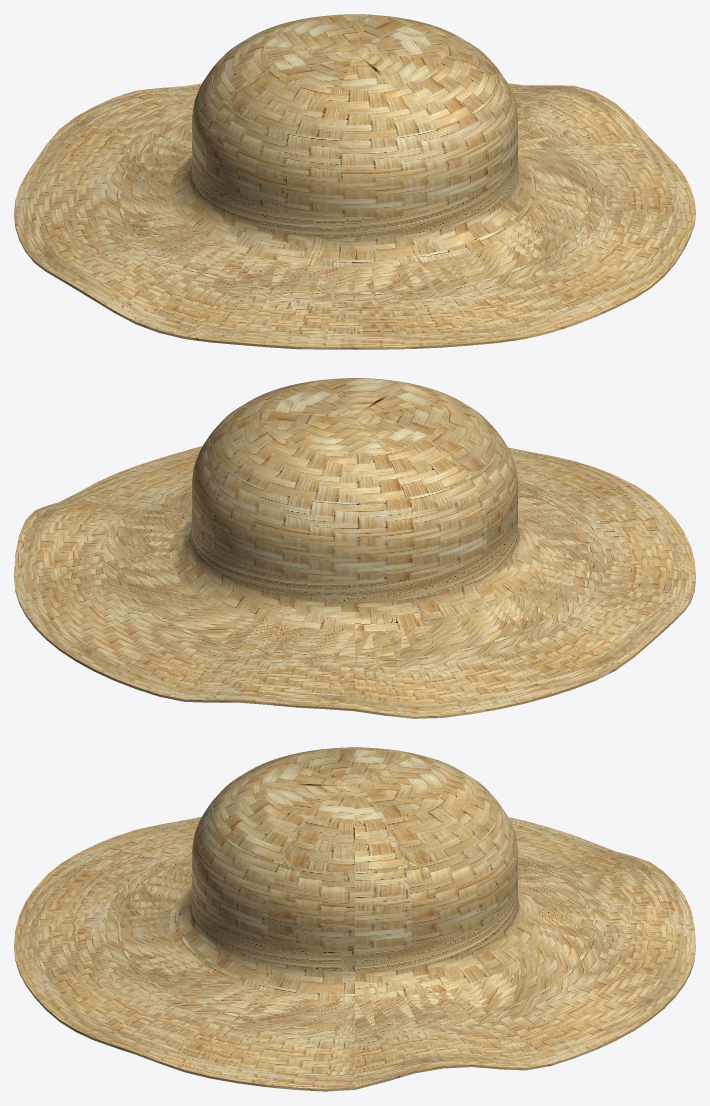
Rendered from denemecSapka.fbx.
The picture shows the model from 3 angles, top to bottom: view 1: azimuth 30°, elevation 25°; view 2: azimuth 150°, elevation 25°; view 3: azimuth 270°, elevation 25°; orthographic projection.
Parts seen in each view (by area): view 1: Layer0_001; view 2: Layer0_001; view 3: Layer0_001.
Part boxes in pixels (<box>): Layer0_001: <box>14,14,695,349</box>; Layer0_001: <box>14,378,695,718</box>; Layer0_001: <box>14,747,695,1091</box>.
Size of the model in its own units: 53.15 by 14.12 by 53.15.
